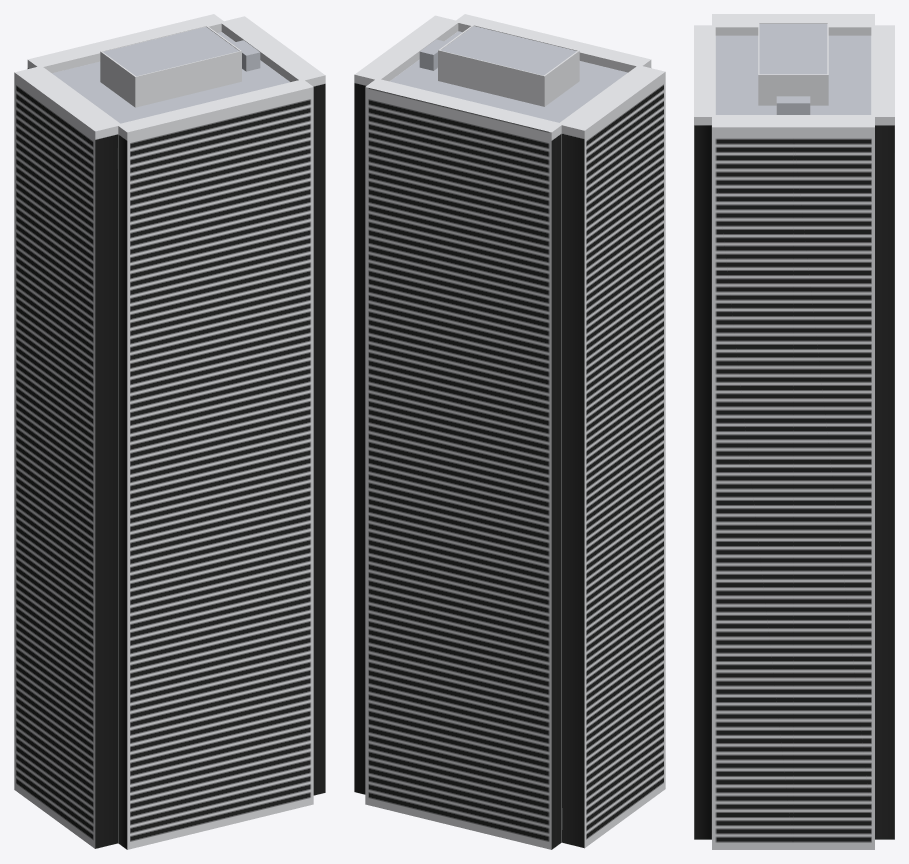
The model's file is American_TallSkyscraper.fbx.
3 renders of one model, left to right at view 1: azimuth 30°, elevation 25°; view 2: azimuth 150°, elevation 25°; view 3: azimuth 270°, elevation 25°, orthographic.
Visible parts, largest first — view 1: American_TallSkyscraper; view 2: American_TallSkyscraper; view 3: American_TallSkyscraper.
Part boxes in pixels (<box>): American_TallSkyscraper: <box>14,14,325,849</box>; American_TallSkyscraper: <box>354,14,665,849</box>; American_TallSkyscraper: <box>694,14,894,849</box>.
Bounding box in the file's own units: 10.28 × 31.56 × 7.71.
Materials: 1 (1 with a texture image).
